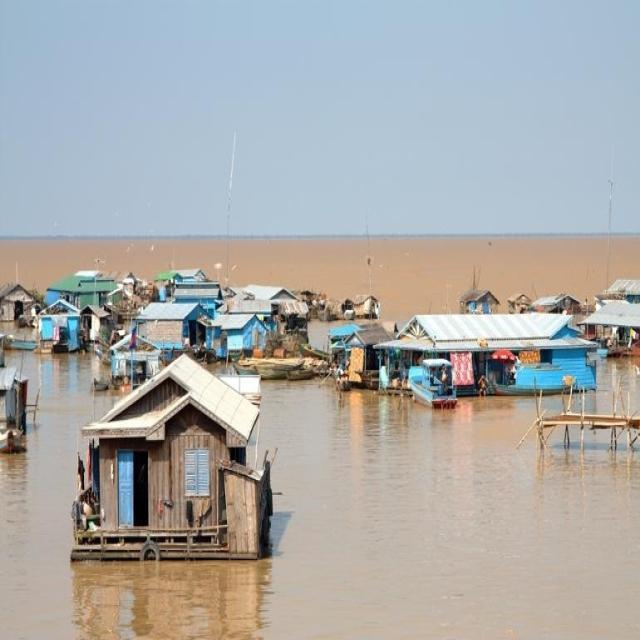Raft: (54, 360, 298, 564), (134, 299, 210, 362)
boat: (411, 363, 456, 413)
